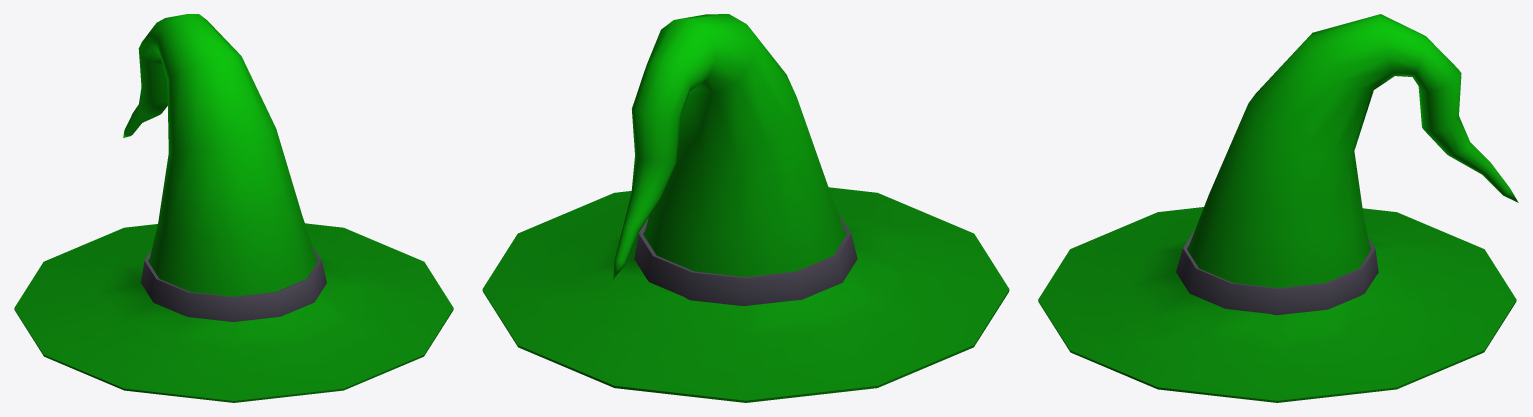
Rendered from druidWizard_hat.fbx.
3 views of the same model, side by side, from view 1: azimuth 30°, elevation 25°; view 2: azimuth 150°, elevation 25°; view 3: azimuth 270°, elevation 25° (orthographic). The views are drawn at different scales.
Visible parts, largest first — view 1: wizard hat; view 2: wizard hat; view 3: wizard hat.
Part boxes in pixels (x1,y1,x2,y2): wizard hat: (14, 14, 453, 402); wizard hat: (482, 14, 1009, 402); wizard hat: (1038, 14, 1518, 402).
Size of the model in its own units: 0.2843 by 0.1869 by 0.2857.
Materials: 1 (1 with a texture image).
